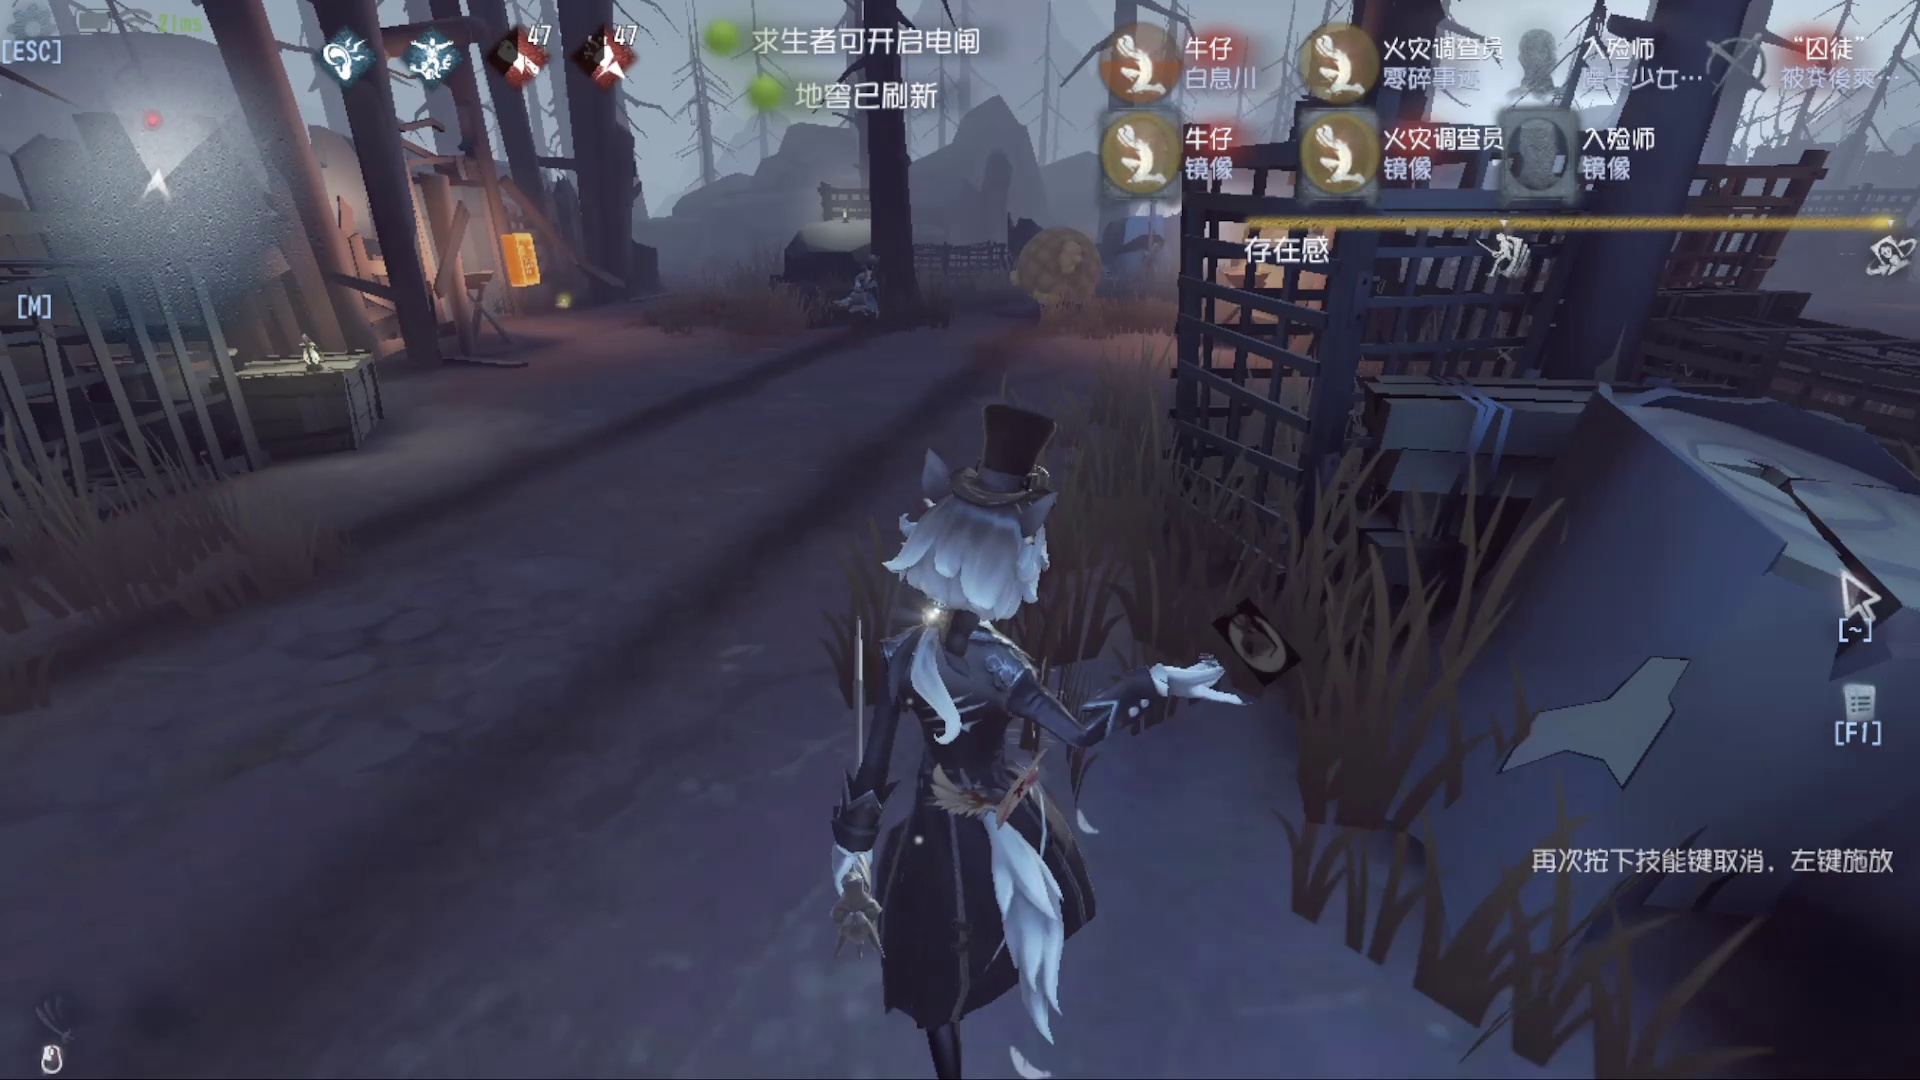求生者: (829, 247, 905, 338)
